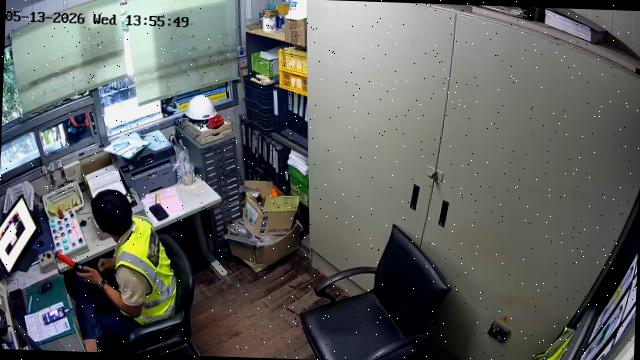Head: (91, 190, 132, 237)
People: (76, 190, 176, 351)
Phone: (43, 308, 65, 324), (149, 203, 168, 220)
